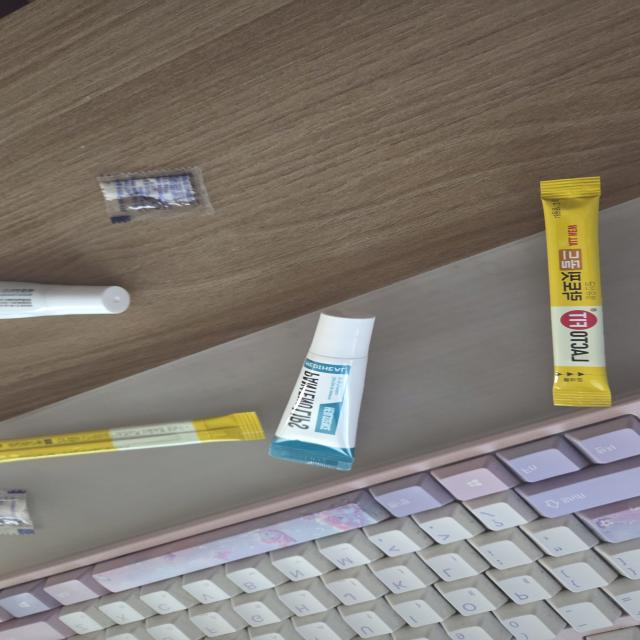lacto: (534, 166, 606, 414), (0, 409, 264, 468)
lib: (264, 306, 384, 474), (2, 280, 130, 323)
salt: (86, 162, 219, 231), (0, 488, 44, 539)
